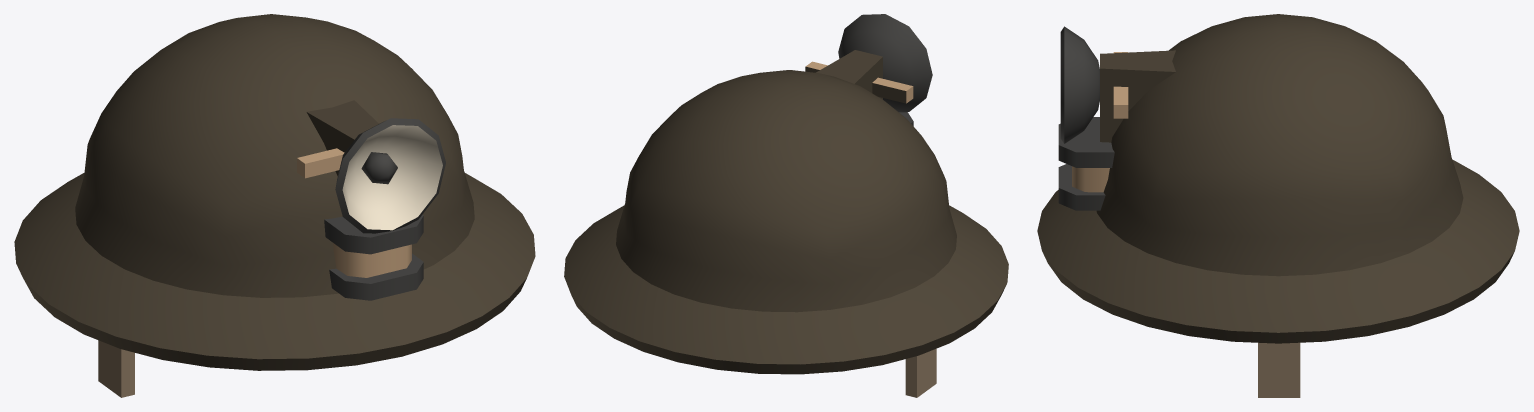
File: 45矿工头盔.fbx
3 views of the same model, side by side, from view 1: azimuth 30°, elevation 25°; view 2: azimuth 150°, elevation 25°; view 3: azimuth 270°, elevation 25° (orthographic). The views are drawn at different scales.
Visible parts, largest first — view 1: 45矿工头盔; view 2: 45矿工头盔; view 3: 45矿工头盔.
Part boxes in pixels (x1,y1,x2,y2): 45矿工头盔: (14,14,535,397); 45矿工头盔: (564,14,1008,397); 45矿工头盔: (1037,14,1519,397).
Bounding box in the file's own units: 0.5474 × 0.367 × 0.5474.
